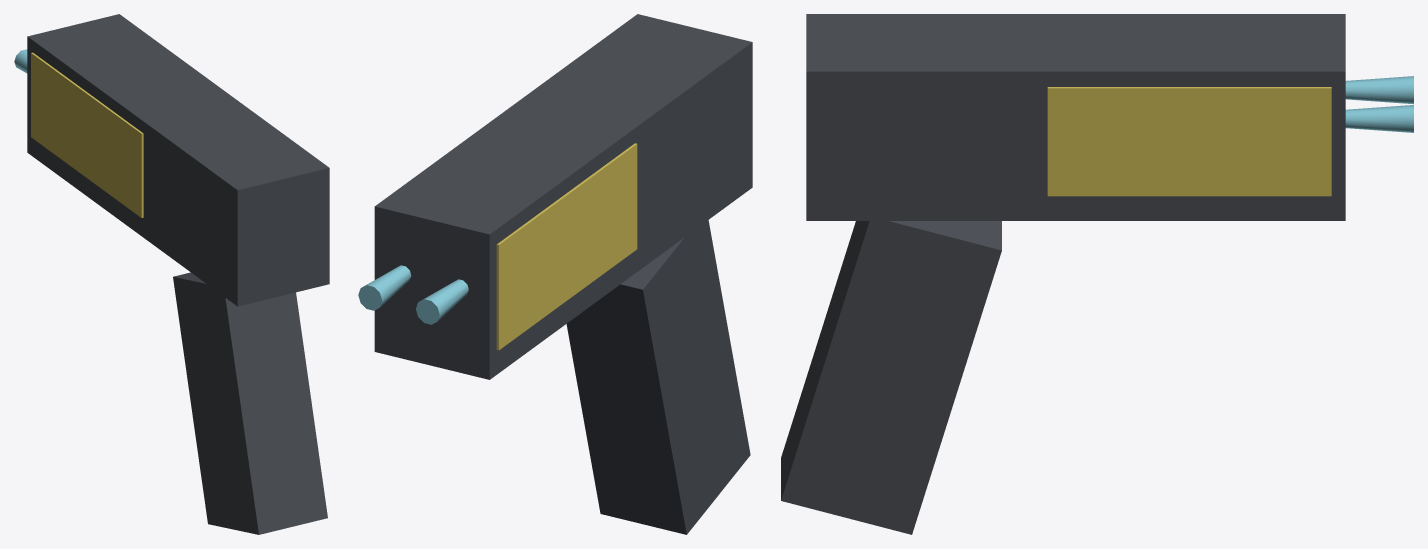
Rendered from zeus.glb.
3 views of the same model, side by side, from view 1: azimuth 30°, elevation 25°; view 2: azimuth 150°, elevation 25°; view 3: azimuth 270°, elevation 25° (orthographic). The views are drawn at different scales.
Visible parts, largest first — view 1: zeus; view 2: zeus; view 3: zeus.
Part boxes in pixels (x1=…): zeus: x1=14, y1=14, x2=329, y2=534; zeus: x1=358, y1=14, x2=752, y2=534; zeus: x1=781, y1=14, x2=1413, y2=534.
Size of the model in its own units: 0.05 by 0.1829 by 0.2229.
